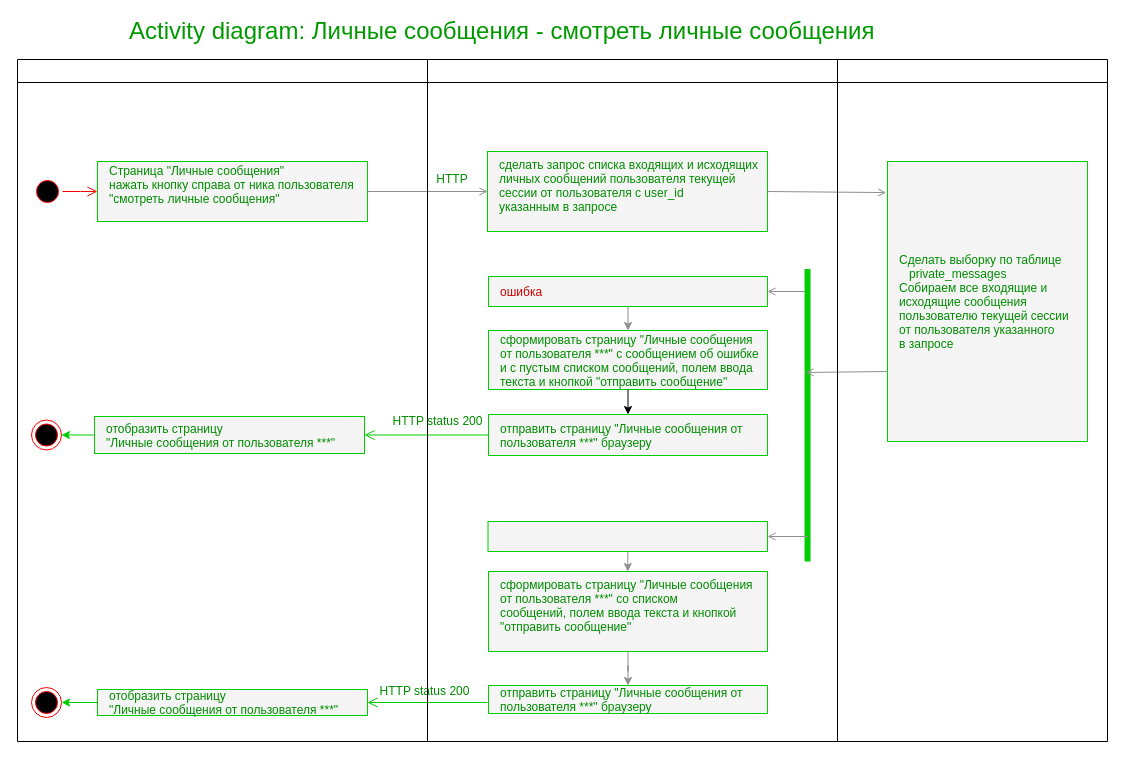
This 1125x759 diagram has some shape labels left out. Here are the shapes that lost their labels. From the top down, the box of each, then its label:
(16, 58, 428, 742): Браузер
(426, 58, 838, 742): Tomcat
(836, 58, 1108, 742): PostgreSQL
(487, 520, 768, 552): получили список сообщнений
